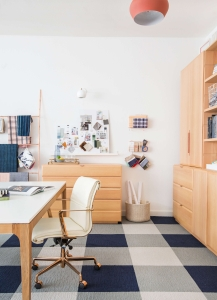chair: (32, 175, 100, 290)
